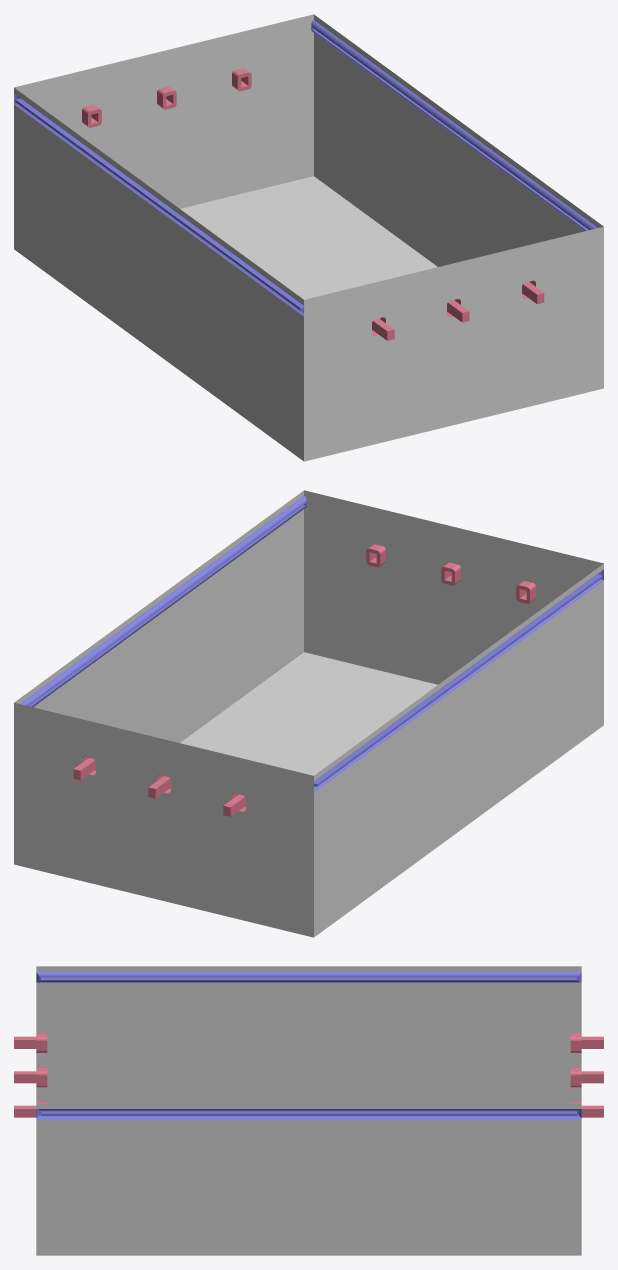
Rendered from Small_Trap.fbx.
3 views of the same model, one above another, from view 1: azimuth 30°, elevation 25°; view 2: azimuth 150°, elevation 25°; view 3: azimuth 270°, elevation 25° (orthographic). The views are drawn at different scales.
Visible parts, largest first — view 1: Cube.005; view 2: Cube.005; view 3: Cube.005.
Part boxes in pixels (bbox=[...]): Cube.005: bbox=[14, 14, 603, 461]; Cube.005: bbox=[14, 490, 603, 937]; Cube.005: bbox=[14, 966, 603, 1255].
Size of the model in its own units: 540 by 277 by 973.
